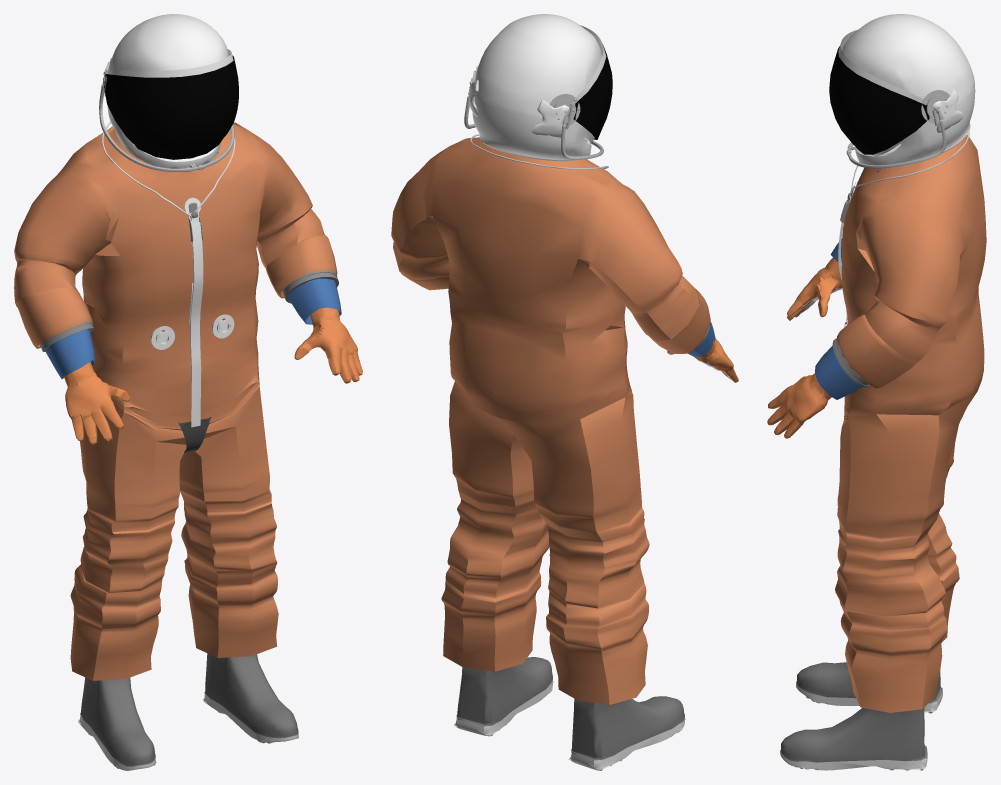
Rendered from aces_lod0.glb.
The picture shows the model from 3 angles, left to right: view 1: azimuth 30°, elevation 25°; view 2: azimuth 150°, elevation 25°; view 3: azimuth 270°, elevation 25°; orthographic projection. The views are drawn at different scales.
Parts seen in each view (by area): view 1: aces_lod0; view 2: aces_lod0; view 3: aces_lod0.
Boxes of the visible parts, bbox=[...] form: aces_lod0: bbox=[14, 14, 362, 770]; aces_lod0: bbox=[391, 14, 738, 770]; aces_lod0: bbox=[767, 14, 986, 770].
Size of the model in its own units: 0.8871 by 2 by 0.5549.
